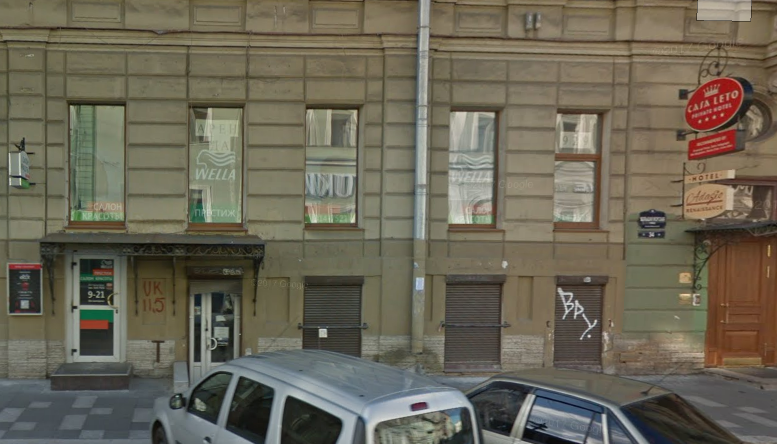cantilever: (673, 37, 748, 160), (670, 158, 741, 222), (1, 133, 41, 193)
door: (710, 230, 773, 364), (62, 252, 121, 364), (188, 278, 239, 385)
window: (186, 102, 245, 229), (304, 108, 360, 225), (70, 101, 121, 229), (439, 273, 503, 373), (449, 108, 499, 233), (553, 107, 602, 226), (554, 277, 606, 374), (305, 274, 365, 357)
